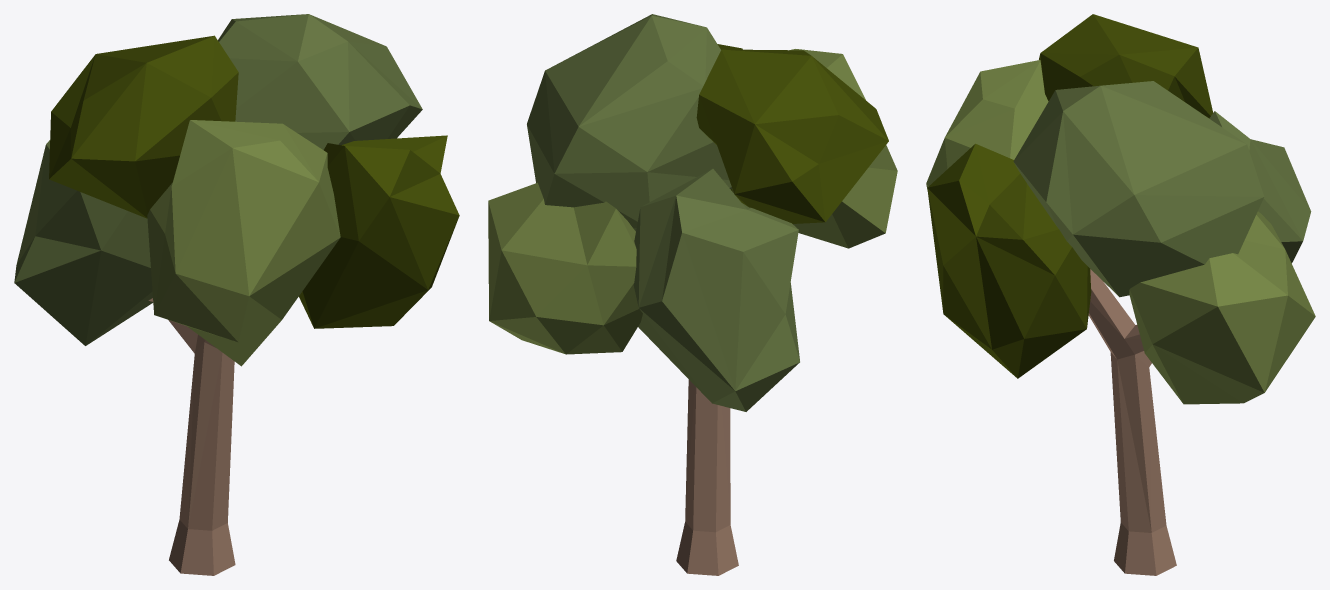
The model's file is tree_0005.dae.
3 renders of one model, left to right at view 1: azimuth 30°, elevation 25°; view 2: azimuth 150°, elevation 25°; view 3: azimuth 270°, elevation 25°, orthographic. The views are drawn at different scales.
Parts seen in each view (by area): view 1: tree_0005; view 2: tree_0005; view 3: tree_0005.
Part boxes in pixels (left/top/right/bottom): tree_0005: left=14, top=14, right=459, bottom=575; tree_0005: left=488, top=14, right=897, bottom=575; tree_0005: left=926, top=14, right=1315, bottom=575.
Bounding box in the file's own units: 2.32 × 2.32 × 3.39.
